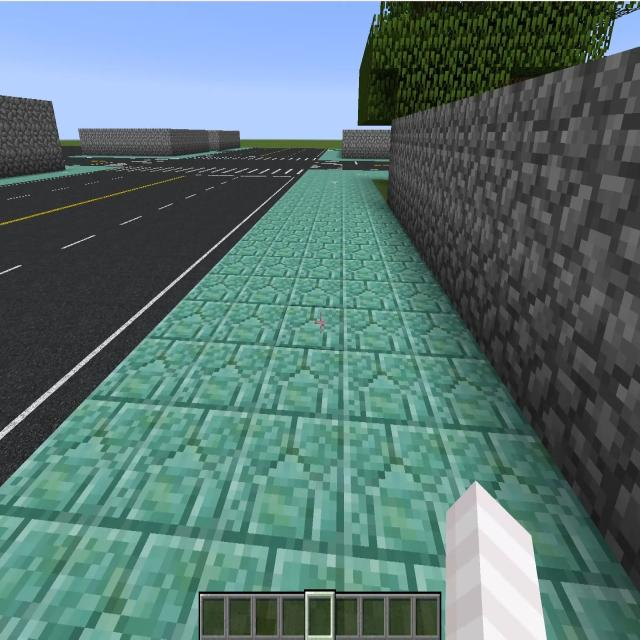crosswalk: (98, 156, 309, 176), (105, 164, 294, 175)
road: (0, 149, 376, 484)
sidewalk: (0, 170, 640, 639), (0, 164, 120, 185), (130, 151, 222, 159), (319, 149, 342, 160), (72, 154, 118, 157), (16, 178, 31, 182), (7, 179, 13, 183), (118, 155, 129, 157), (230, 148, 240, 150)
